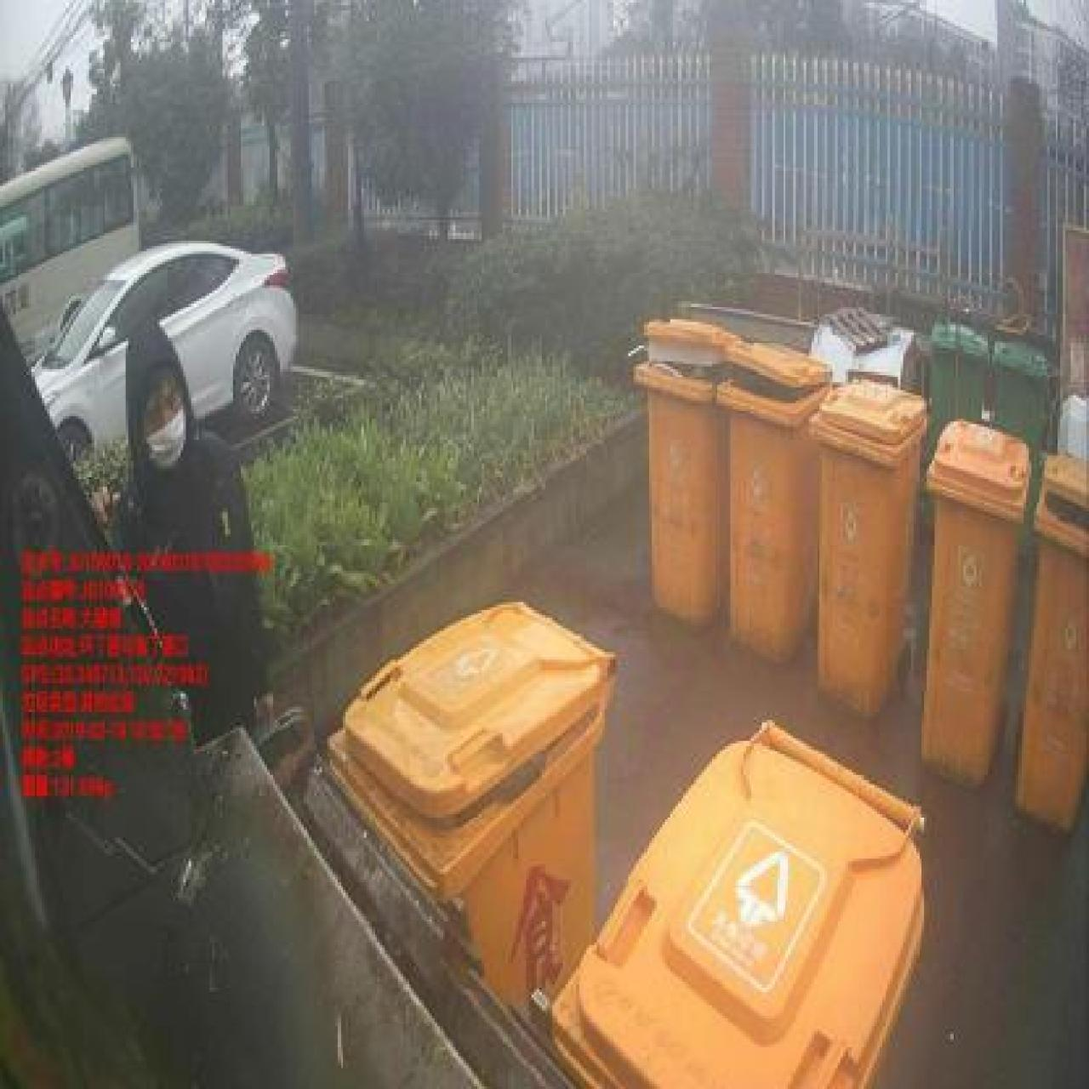bin_empty: (547, 722, 921, 1088), (326, 603, 614, 1012), (921, 419, 1029, 784), (810, 379, 926, 716), (716, 342, 830, 661), (634, 319, 727, 626), (1016, 453, 1088, 832), (926, 321, 990, 457), (992, 338, 1049, 453)
vehicle: (31, 242, 297, 454), (0, 137, 142, 362)
